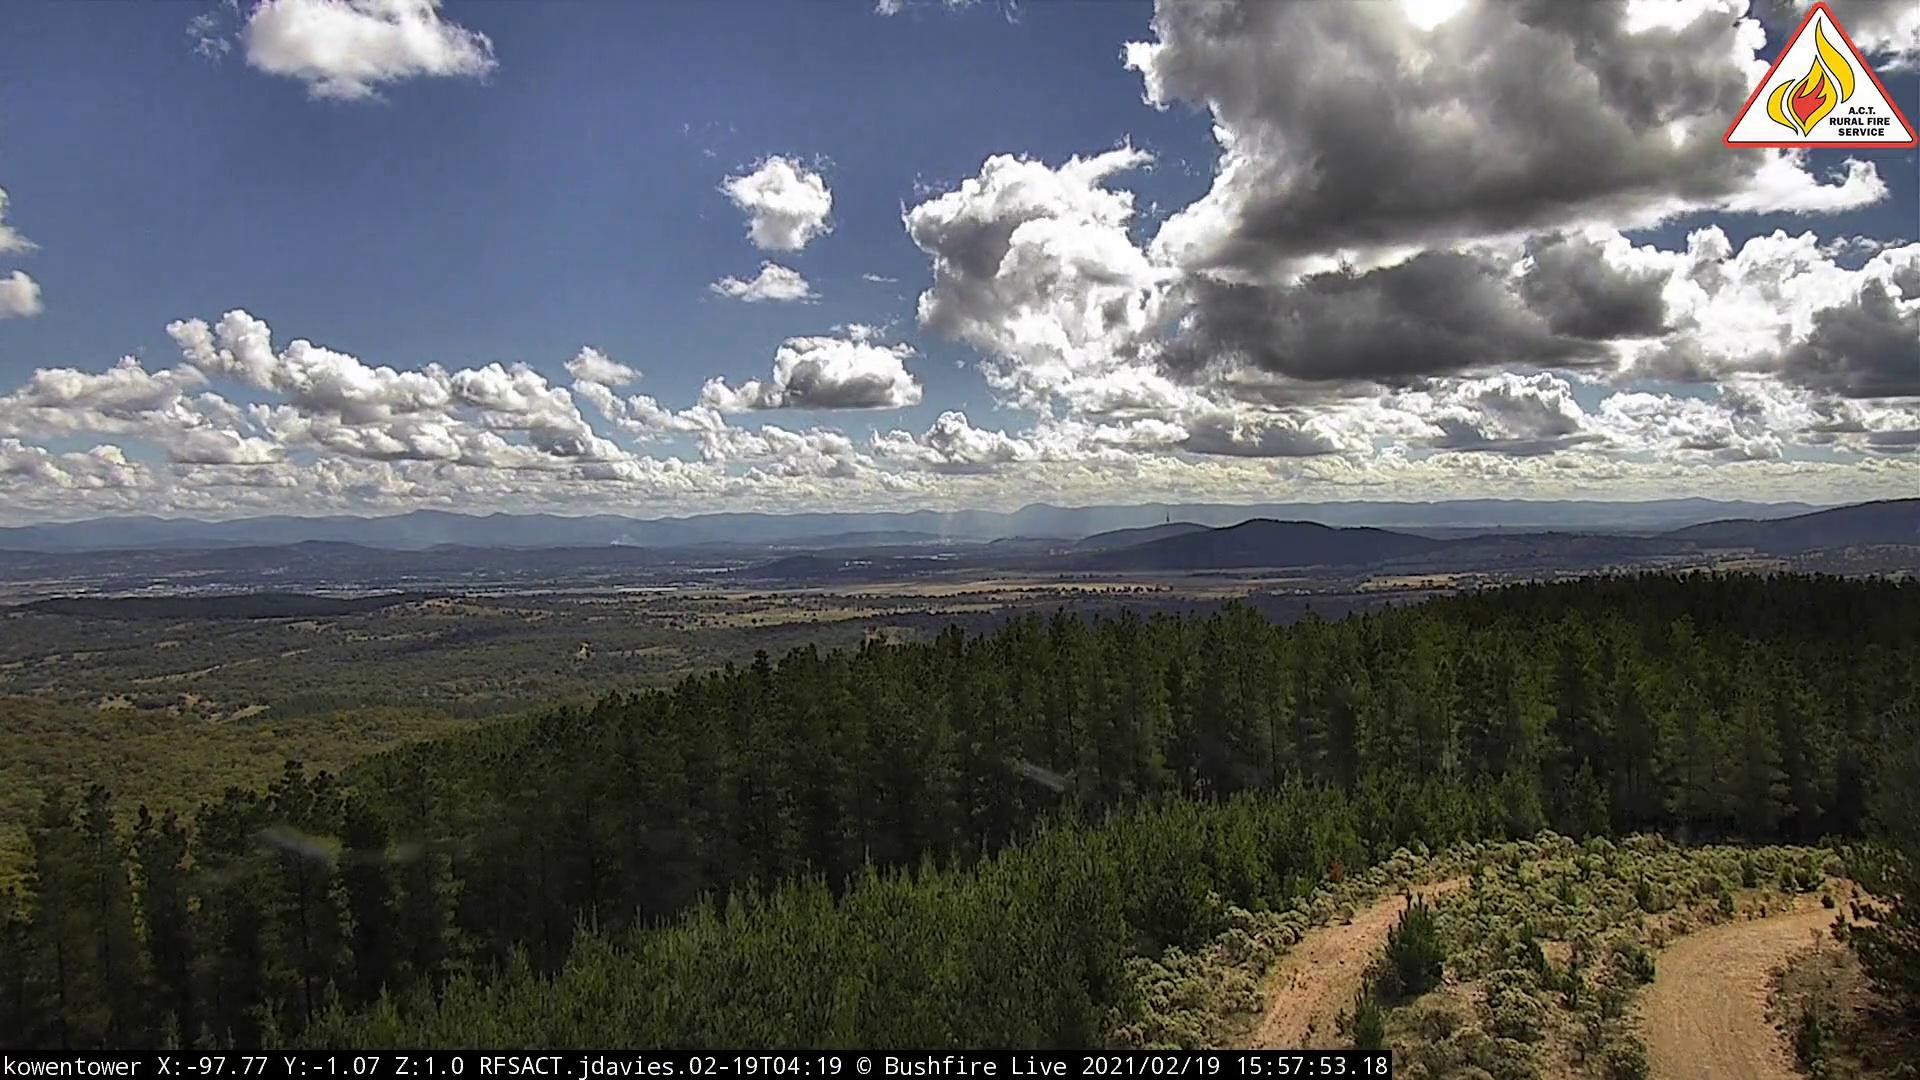Smoke: (928, 502, 1026, 551), (611, 531, 638, 556)
